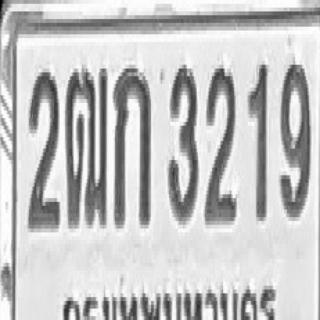A01: (112, 63, 151, 227)
A18: (64, 63, 108, 227)
N01: (247, 59, 267, 219)
N02: (27, 67, 59, 227), (204, 63, 236, 223)
N03: (168, 61, 198, 221)
N09: (280, 57, 310, 217)
